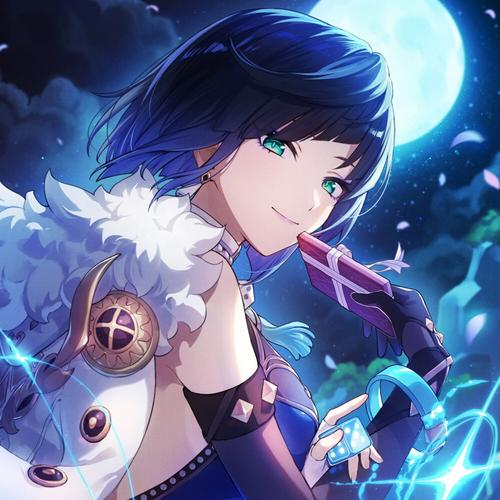夜兰: (1, 7, 453, 500)
